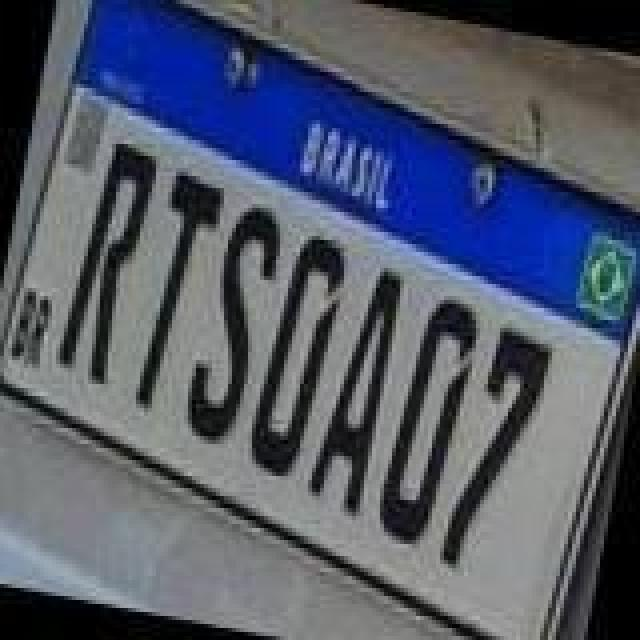7: (436, 320, 556, 576)
A: (300, 264, 404, 520)
D: (366, 294, 482, 554), (240, 230, 352, 482)
R: (50, 138, 158, 390)
S: (176, 198, 288, 450)
T: (126, 168, 226, 416)
